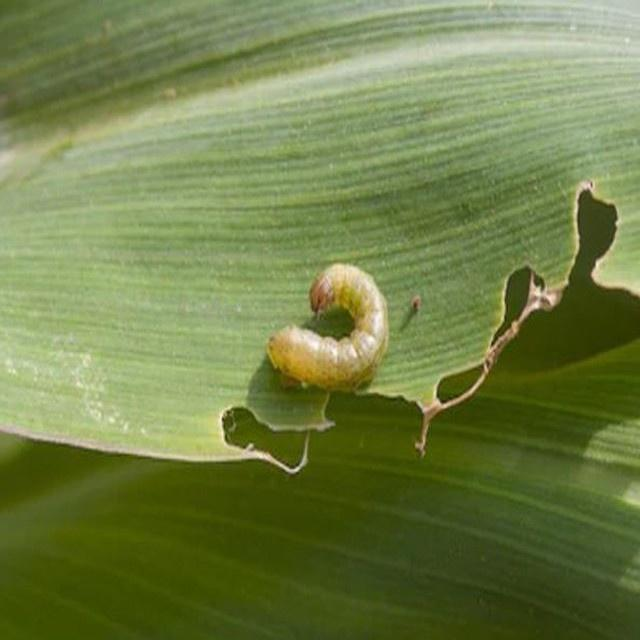gusano_cogollero: (262, 261, 388, 398)
